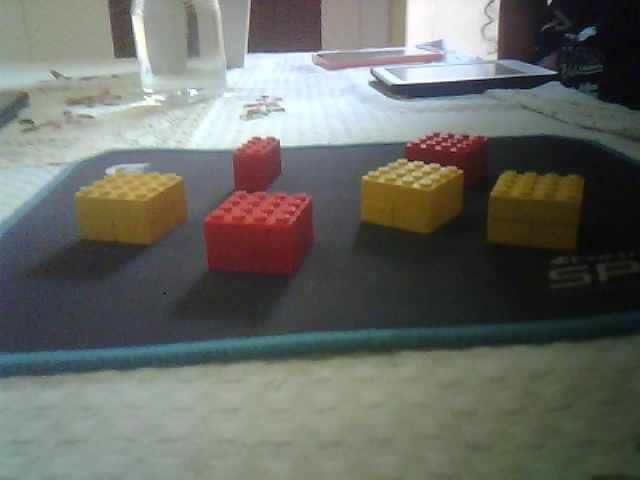lego: (202, 189, 314, 278), (74, 169, 188, 247), (486, 169, 586, 252), (359, 158, 465, 236), (403, 131, 489, 186), (231, 136, 283, 191)
